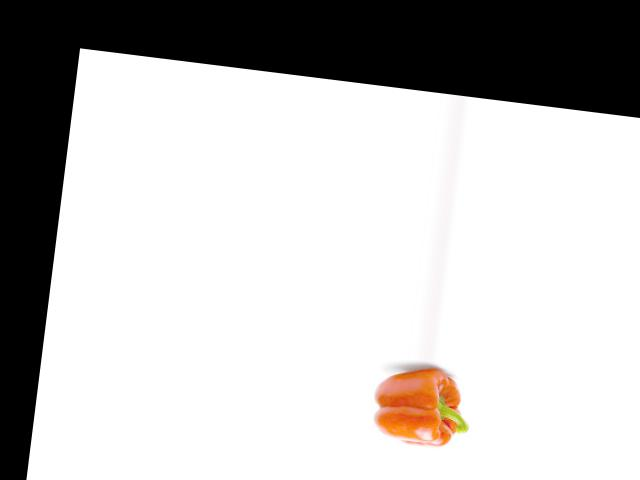bell_pepper: (360, 362, 480, 451)
